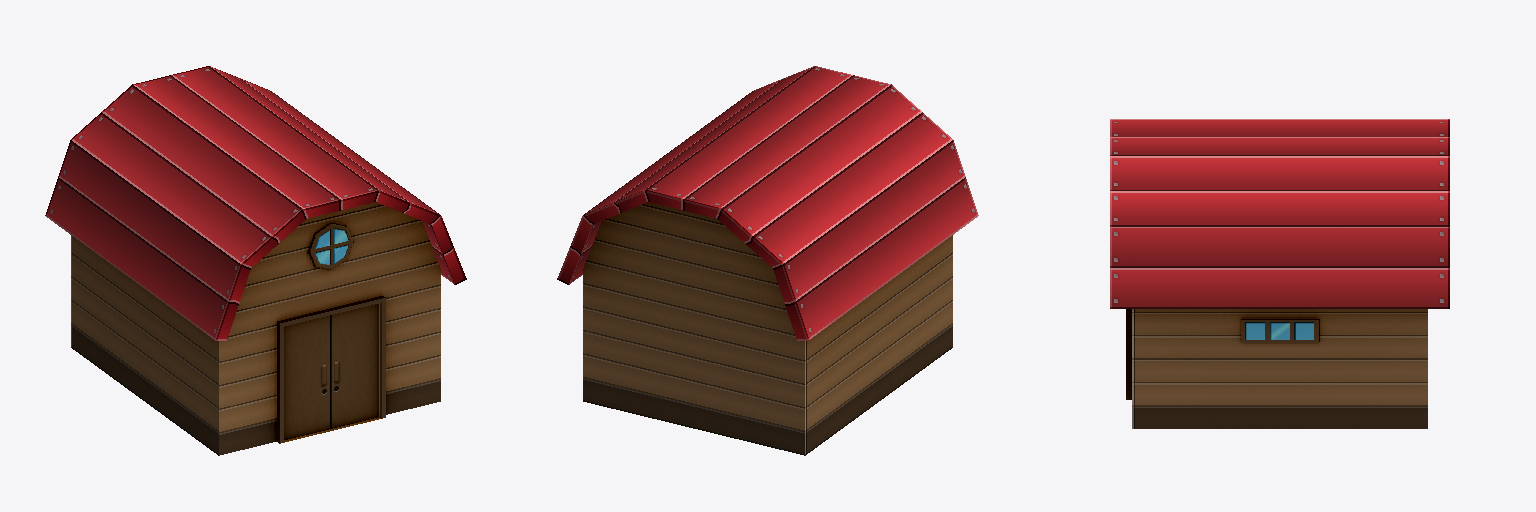
The picture shows the model from 3 angles: view 1: azimuth 30°, elevation 25°; view 2: azimuth 150°, elevation 25°; view 3: azimuth 270°, elevation 25°; orthographic projection.
Visible parts, largest first — view 1: barn_geo, door_R_geo, door_L_geo; view 2: barn_geo; view 3: barn_geo.
Boxes of the visible parts, <box> form: barn_geo: <box>45,66,466,455</box>; door_R_geo: <box>331,303,379,428</box>; door_L_geo: <box>284,315,330,439</box>; barn_geo: <box>557,66,978,455</box>; barn_geo: <box>1110,119,1449,428</box>.
Size of the model in its own units: 0.1127 by 0.1015 by 0.1323.
Materials: 1 (1 with a texture image).